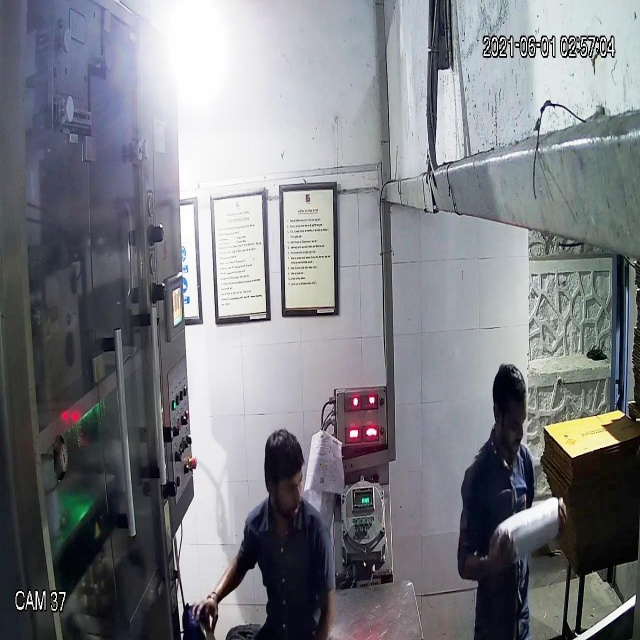Sin_gafas: (265, 470, 308, 503)
